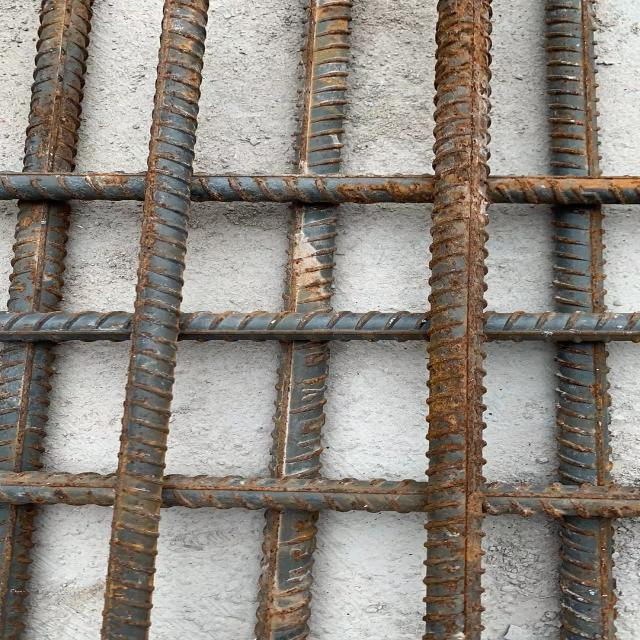ribbed bar: (97, 0, 207, 639), (252, 0, 360, 639), (0, 0, 95, 639), (539, 0, 620, 639), (418, 0, 494, 639), (0, 468, 639, 518), (0, 310, 639, 345), (0, 172, 639, 206)
